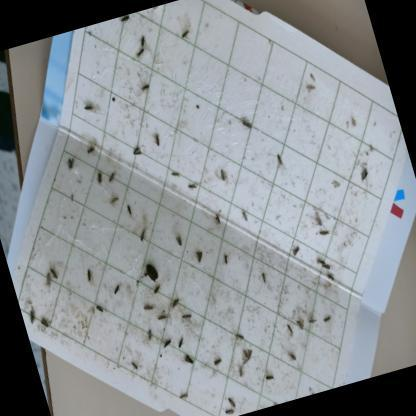prays_oleae: (233, 107, 257, 136), (283, 231, 306, 261), (235, 340, 258, 370), (236, 202, 258, 231), (77, 95, 100, 121), (92, 296, 112, 324), (254, 364, 278, 387), (174, 384, 200, 405), (47, 262, 66, 290), (188, 243, 212, 265), (79, 134, 100, 158), (270, 147, 288, 174), (178, 20, 196, 46), (80, 263, 98, 289), (208, 206, 226, 232), (179, 308, 200, 330), (180, 348, 199, 372), (223, 387, 242, 410), (357, 162, 375, 186), (165, 291, 184, 313), (215, 164, 234, 186), (280, 314, 296, 340), (220, 245, 236, 270), (134, 228, 152, 250), (166, 164, 184, 186), (141, 324, 157, 348), (128, 140, 147, 160), (211, 350, 228, 372), (256, 265, 272, 288), (314, 222, 334, 240), (282, 344, 300, 364), (186, 177, 204, 197), (174, 334, 190, 356), (62, 153, 80, 172), (36, 312, 52, 333), (172, 230, 188, 251), (106, 166, 121, 188), (90, 171, 107, 190), (150, 128, 166, 148), (110, 280, 126, 300), (320, 305, 334, 327), (160, 336, 177, 354), (108, 191, 126, 208), (156, 308, 172, 327), (22, 306, 38, 325), (318, 263, 338, 278), (302, 310, 318, 327), (294, 315, 308, 334), (142, 299, 158, 315), (148, 285, 166, 299), (137, 30, 149, 50), (140, 80, 155, 95), (124, 204, 138, 220), (40, 268, 52, 286), (134, 43, 148, 58), (221, 403, 237, 416), (316, 252, 330, 265), (326, 274, 336, 287)
